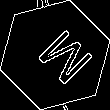M_SW: (21, 21, 89, 89)
